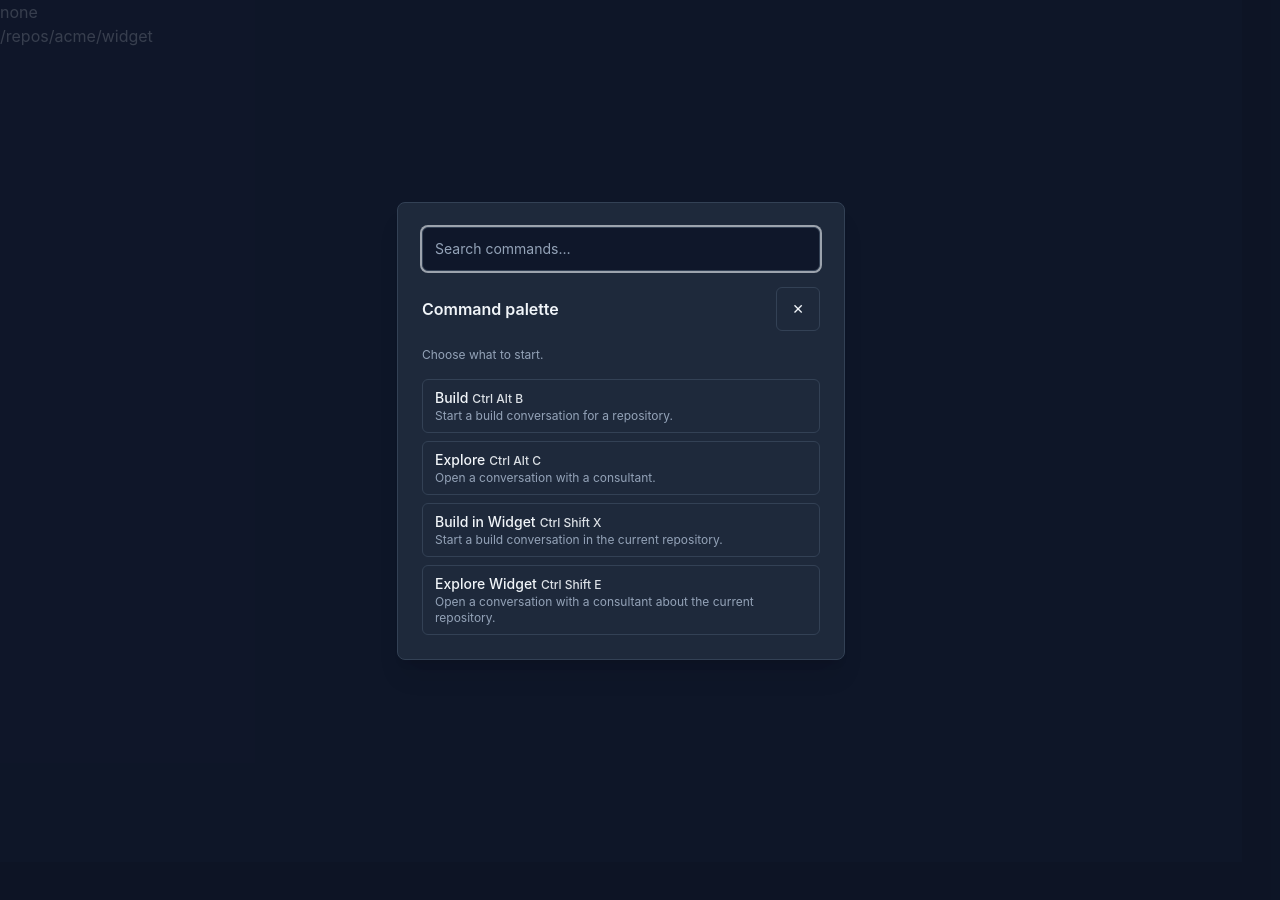
Scenario: CommandPalette — root step with a current repository › choosing the scoped Build closes the palette and starts a build conversation in that repository
Step 1. Click the button with test id "palette-command-build-scoped" → click(621, 530), box top-left (422, 503), bottom-right (820, 557)
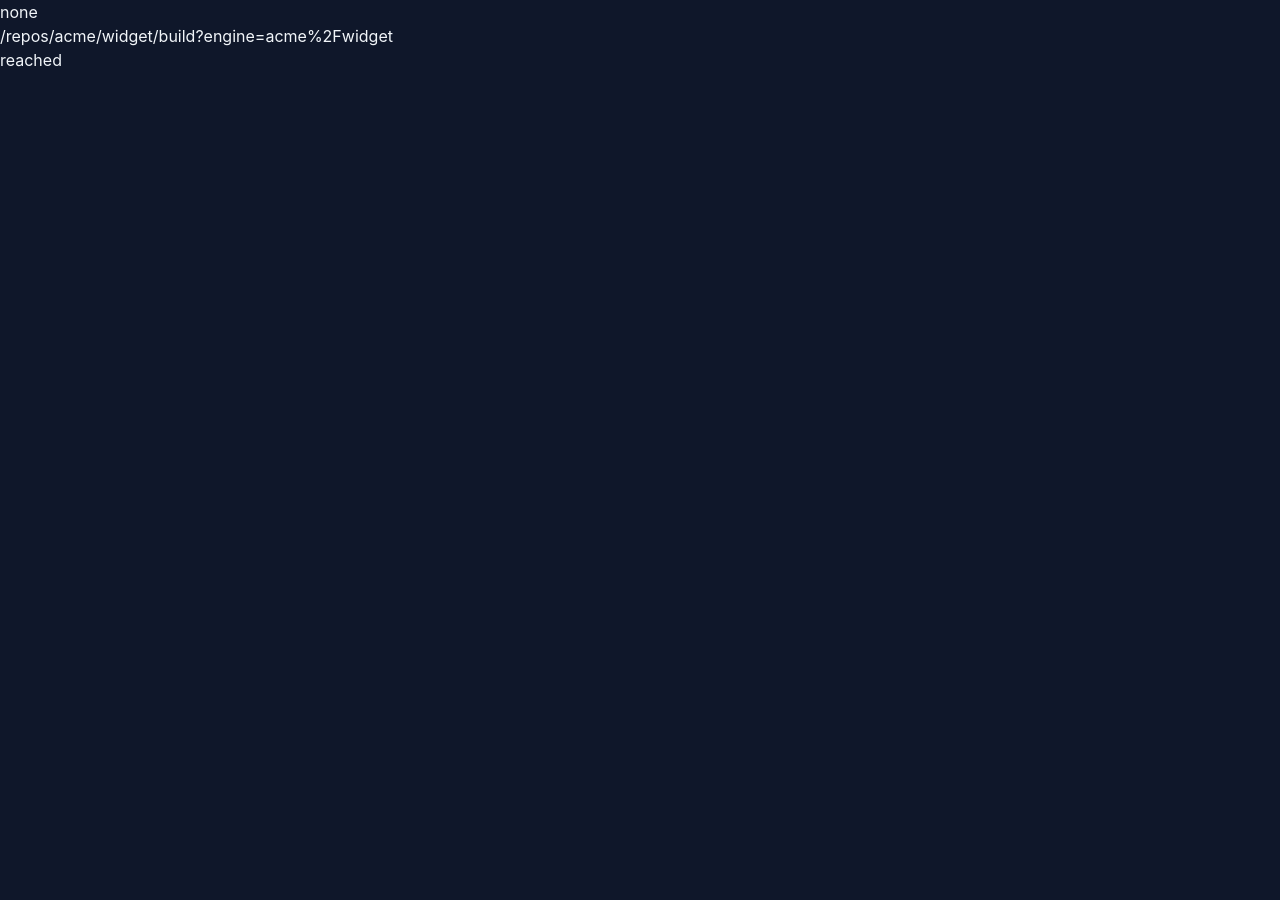
Now the text "reached" is shown, box top-left (0, 50), bottom-right (62, 70)
Now the text with test id "location" reads "/repos/acme/widget/build?engine=acme%2Fwidget", box top-left (0, 26), bottom-right (393, 46)
